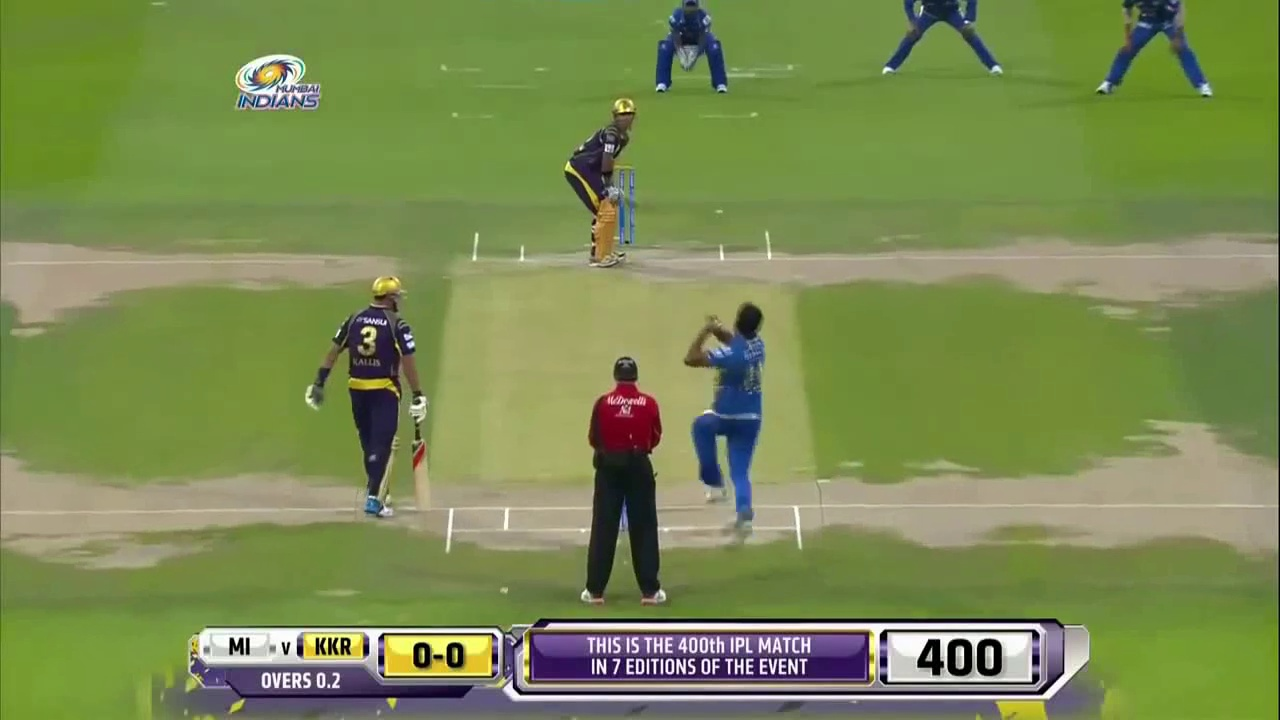bat: (409, 426, 431, 513)
